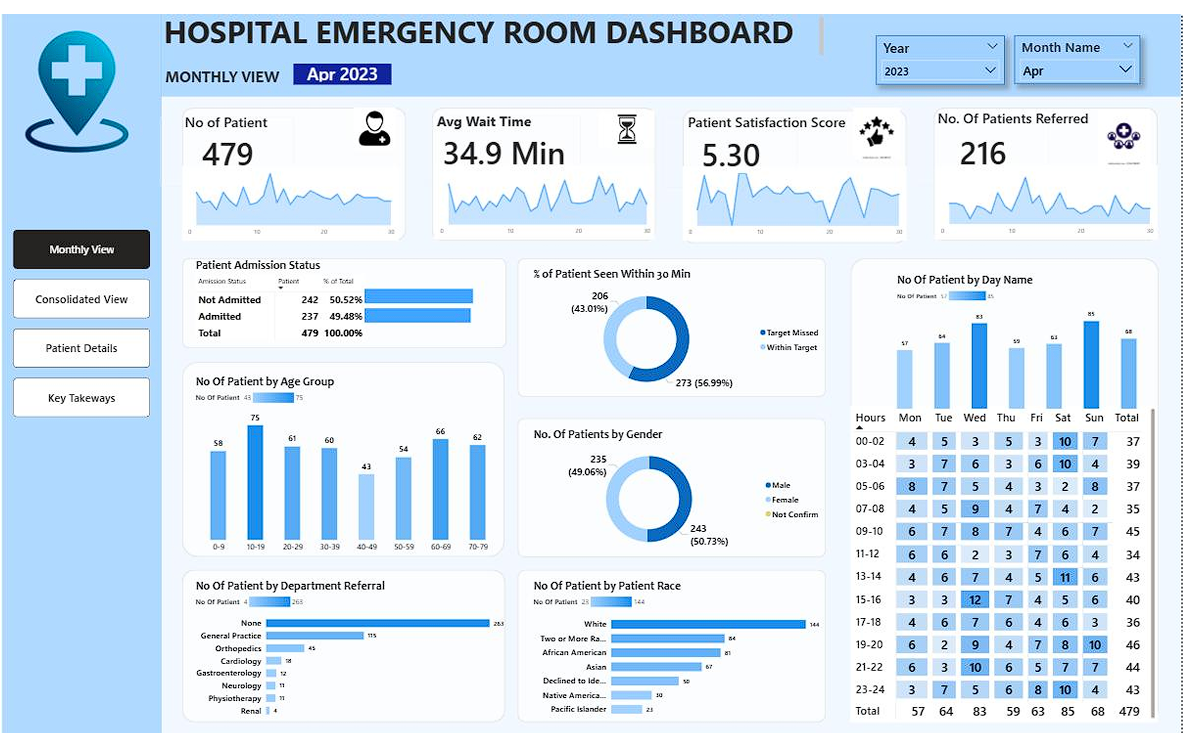

This screenshot's page, from the dashboard's own definition file:
{"tool":"powerbi","page":{"name":"Monthly View","canvas":[2300,1400],"ordinal":0},"visuals":[{"type":"shape","box":[9.9,0,310,1400.5],"z":0},{"type":"shape","box":[318.6,0,1980.6,159.3],"z":1000},{"type":"textbox","box":[318.6,0,1291.1,85.6],"z":2000},{"type":"textbox","box":[320.5,96.2,254,64.1],"z":3000},{"type":"slicer","fields":{"Values":["DateTable.Year"]},"box":[1707.2,40.4,249.7,95.1],"z":4000},{"type":"slicer","fields":{"Values":["DateTable.Month Name"]},"box":[1975,39.5,244.1,93.7],"z":5000},{"type":"shape","box":[359,180.7,435.1,259.2],"z":6000},{"type":"cardVisual","fields":{"Data":["Hospital ER_Data.No Of Patient"]},"box":[299.6,180.7,294.8,171.2],"z":7000},{"type":"textbox","box":[359,185.5,235.4,49.9],"z":8000},{"type":"areaChart","fields":{"Y":["Hospital ER_Data.No Of Patient"],"Category":["DateTable.Date.Variation.Date Hierarchy.Day"]},"box":[359,294.8,420.9,145],"z":9000},{"type":"card","fields":{"Values":["Min(DateTable.Month & Year)"]},"box":[575.4,95.1,190.2,40.4],"z":10000},{"type":"shape","box":[844.1,180.7,435.1,259.2],"z":11000},{"type":"shape","box":[1331.5,185.5,435.1,259.2],"z":12000},{"type":"shape","box":[1819,180.7,435.1,259.2],"z":13000},{"type":"cardVisual","fields":{"Data":["Hospital ER_Data.Satifaction Score"]},"box":[1275.9,183.1,294.8,171.2],"z":14000},{"type":"textbox","box":[1336.3,185.5,349.5,52.3],"z":15000},{"type":"areaChart","fields":{"Y":["Hospital ER_Data.Satifaction Score"],"Category":["DateTable.Date.Variation.Date Hierarchy.Day"]},"box":[1331.5,294.8,435.1,145],"z":16000},{"type":"cardVisual","fields":{"Data":["Hospital ER_Data.Avg Wait Time"]},"box":[815.6,178.3,335.3,171.2],"z":17000},{"type":"textbox","box":[848.4,182.1,235.4,49.9],"z":18000},{"type":"areaChart","fields":{"Category":["DateTable.Date.Variation.Date Hierarchy.Day"],"Y":["Avg(Hospital ER_Data.Patient Waittime)"]},"box":[848.8,292.5,428,145],"z":19000},{"type":"shape","box":[359,473.2,630.1,176],"z":20000},{"type":"cardVisual","fields":{"Data":["Hospital ER_Data.No of patient referred"]},"box":[1766.7,178.3,294.8,171.2],"z":21000},{"type":"shape","box":[359,1079.5,627.7,297.2],"z":22000},{"type":"textbox","box":[1821.3,178.3,318.6,52.3],"z":23000},{"type":"shape","box":[360,675.6,626.3,379.7],"z":24000},{"type":"areaChart","fields":{"Y":["Hospital ER_Data.No of patient referred"],"Category":["DateTable.Date.Variation.Date Hierarchy.Day"]},"box":[1821.3,292.5,432.7,145],"z":25000},{"type":"pivotTable","title":"Patient Admission Status","fields":{"Rows":["Hospital ER_Data.Amission Status"],"Values":["Hospital ER_Data.No Of Patient1","Hospital ER_Data.No Of Patient"]},"box":[575.4,587.3,413.7,176],"z":26000},{"type":"barChart","fields":{"Category":["Hospital ER_Data.Amission Status"],"Y":["Hospital ER_Data.No Of Patient"]},"box":[707.7,500.5,271.2,123.3],"z":27000},{"type":"clusteredColumnChart","fields":{"Category":["Hospital ER_Data.Age Group"],"Y":["Hospital ER_Data.No Of Patient"]},"box":[380.4,699.1,603.9,356.7],"z":28000},{"type":"clusteredBarChart","fields":{"Y":["Hospital ER_Data.No Of Patient"],"Category":["Hospital ER_Data.Department Referral"]},"box":[380.4,1096.1,611.1,280.6],"z":29000},{"type":"shape","box":[1010.5,473.2,599.2,271.1],"z":30000},{"type":"donutChart","title":"% of Patient Seen Within 30 Min ","fields":{"Y":["Hospital ER_Data.No Of Patient"],"Category":["Hospital ER_Data.Wait Time Status"]},"box":[1036.7,489.8,573,254.4],"z":31000},{"type":"shape","box":[1010.5,784.7,599.2,271.1],"z":32000},{"type":"donutChart","title":"No. Of Patients by Gender","fields":{"Y":["Hospital ER_Data.No Of Patient"],"Category":["Hospital ER_Data.Patient Gender"]},"box":[1036.7,801.3,573,254.4],"z":33000},{"type":"shape","box":[1010.5,1079.5,599.2,297.2],"z":34000},{"type":"clusteredBarChart","fields":{"Y":["Hospital ER_Data.No Of Patient"],"Category":["Hospital ER_Data.Patient Race"]},"box":[1036.7,1096.1,573,280.6],"z":35000},{"type":"shape","box":[1657.3,473.2,599.2,903.5],"z":36000},{"type":"pivotTable","fields":{"Rows":["Hospital ER_Data.Wait time Interval"],"Columns":["DateTable.Day Name"],"Values":["Hospital ER_Data.No Of Patient"]},"box":[1657.3,760.9,596.8,615.8],"z":37000},{"type":"columnChart","fields":{"Category":["DateTable.Day Name"],"Y":["Hospital ER_Data.No Of Patient"]},"box":[1742.9,501.7,477.9,271.1],"z":38000},{"type":"image","box":[0,30.9,309.1,237.8],"z":39000},{"type":"image","box":[687.2,180.7,92.7,80.8],"z":40000},{"type":"image","box":[1169.8,183.1,107,78.5],"z":41000},{"type":"image","box":[1633.5,180.7,149.8,99.9],"z":42000},{"type":"image","box":[2123.3,183.1,130.8,109.4],"z":43000},{"type":"pageNavigator","box":[30.9,418.5,266.3,366.2],"z":44000}]}

Visuals, with their boxes in screenshot pixels (x1, y1, x2, y2), scaled from the page's 2300x1400 canvas onto the 1189x744 screenshot:
shape: {"left": 5, "top": 0, "right": 165, "bottom": 743}
shape: {"left": 165, "top": 0, "right": 1188, "bottom": 85}
textbox: {"left": 165, "top": 0, "right": 832, "bottom": 45}
textbox: {"left": 166, "top": 51, "right": 297, "bottom": 85}
slicer - DateTable.Year: {"left": 883, "top": 21, "right": 1012, "bottom": 72}
slicer - DateTable.Month Name: {"left": 1021, "top": 21, "right": 1147, "bottom": 71}
shape: {"left": 186, "top": 96, "right": 411, "bottom": 234}
cardVisual - Hospital ER_Data.No Of Patient: {"left": 155, "top": 96, "right": 307, "bottom": 187}
textbox: {"left": 186, "top": 99, "right": 307, "bottom": 125}
areaChart - Hospital ER_Data.No Of Patient x DateTable.Date.Variation.Date Hierarchy.Day: {"left": 186, "top": 157, "right": 403, "bottom": 234}
card - Min(DateTable.Month & Year): {"left": 297, "top": 51, "right": 396, "bottom": 72}
shape: {"left": 436, "top": 96, "right": 661, "bottom": 234}
shape: {"left": 688, "top": 99, "right": 913, "bottom": 236}
shape: {"left": 940, "top": 96, "right": 1165, "bottom": 234}
cardVisual - Hospital ER_Data.Satifaction Score: {"left": 660, "top": 97, "right": 812, "bottom": 188}
textbox: {"left": 691, "top": 99, "right": 871, "bottom": 126}
areaChart - Hospital ER_Data.Satifaction Score x DateTable.Date.Variation.Date Hierarchy.Day: {"left": 688, "top": 157, "right": 913, "bottom": 234}
cardVisual - Hospital ER_Data.Avg Wait Time: {"left": 422, "top": 95, "right": 595, "bottom": 186}
textbox: {"left": 439, "top": 97, "right": 560, "bottom": 123}
areaChart - DateTable.Date.Variation.Date Hierarchy.Day x Avg(Hospital ER_Data.Patient Waittime): {"left": 439, "top": 155, "right": 660, "bottom": 233}
shape: {"left": 186, "top": 251, "right": 511, "bottom": 345}
cardVisual - Hospital ER_Data.No of patient referred: {"left": 913, "top": 95, "right": 1066, "bottom": 186}
shape: {"left": 186, "top": 574, "right": 510, "bottom": 732}
textbox: {"left": 942, "top": 95, "right": 1106, "bottom": 123}
shape: {"left": 186, "top": 359, "right": 510, "bottom": 561}
areaChart - Hospital ER_Data.No of patient referred x DateTable.Date.Variation.Date Hierarchy.Day: {"left": 942, "top": 155, "right": 1165, "bottom": 233}
"Patient Admission Status" pivotTable: {"left": 297, "top": 312, "right": 511, "bottom": 406}
barChart - Hospital ER_Data.Amission Status x Hospital ER_Data.No Of Patient: {"left": 366, "top": 266, "right": 506, "bottom": 332}
clusteredColumnChart - Hospital ER_Data.Age Group x Hospital ER_Data.No Of Patient: {"left": 197, "top": 372, "right": 509, "bottom": 561}
clusteredBarChart - Hospital ER_Data.No Of Patient x Hospital ER_Data.Department Referral: {"left": 197, "top": 582, "right": 513, "bottom": 732}
shape: {"left": 522, "top": 251, "right": 832, "bottom": 396}
"% of Patient Seen Within 30 Min " donutChart: {"left": 536, "top": 260, "right": 832, "bottom": 395}
shape: {"left": 522, "top": 417, "right": 832, "bottom": 561}
"No. Of Patients by Gender" donutChart: {"left": 536, "top": 426, "right": 832, "bottom": 561}
shape: {"left": 522, "top": 574, "right": 832, "bottom": 732}
clusteredBarChart - Hospital ER_Data.No Of Patient x Hospital ER_Data.Patient Race: {"left": 536, "top": 582, "right": 832, "bottom": 732}
shape: {"left": 857, "top": 251, "right": 1167, "bottom": 732}
pivotTable - Hospital ER_Data.Wait time Interval x DateTable.Day Name: {"left": 857, "top": 404, "right": 1165, "bottom": 732}
columnChart - DateTable.Day Name x Hospital ER_Data.No Of Patient: {"left": 901, "top": 267, "right": 1148, "bottom": 411}
image: {"left": 0, "top": 16, "right": 160, "bottom": 143}
image: {"left": 355, "top": 96, "right": 403, "bottom": 139}
image: {"left": 605, "top": 97, "right": 660, "bottom": 139}
image: {"left": 844, "top": 96, "right": 922, "bottom": 149}
image: {"left": 1098, "top": 97, "right": 1165, "bottom": 155}
pageNavigator: {"left": 16, "top": 222, "right": 154, "bottom": 417}
